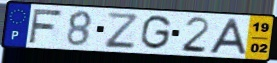2: (180, 15, 211, 54)
8: (65, 10, 95, 47)
A: (207, 17, 249, 56)
F: (27, 8, 64, 45)
G: (138, 14, 173, 51)
Z: (104, 11, 138, 49)
